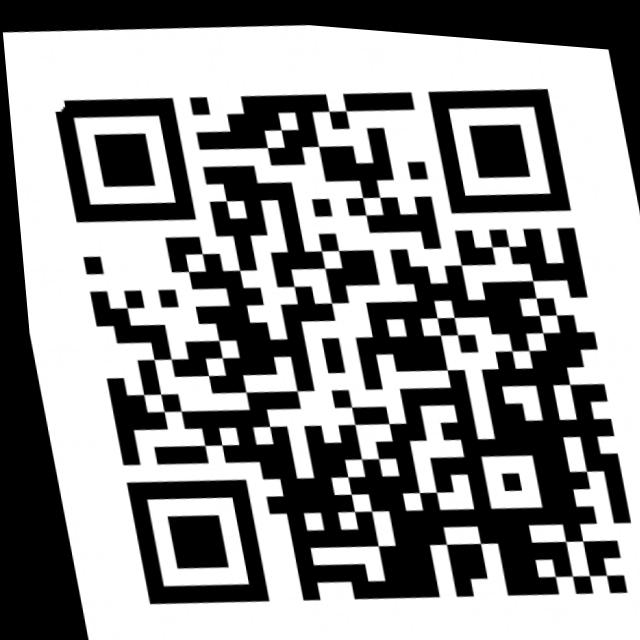QR_CODE: (31, 31, 640, 640)
